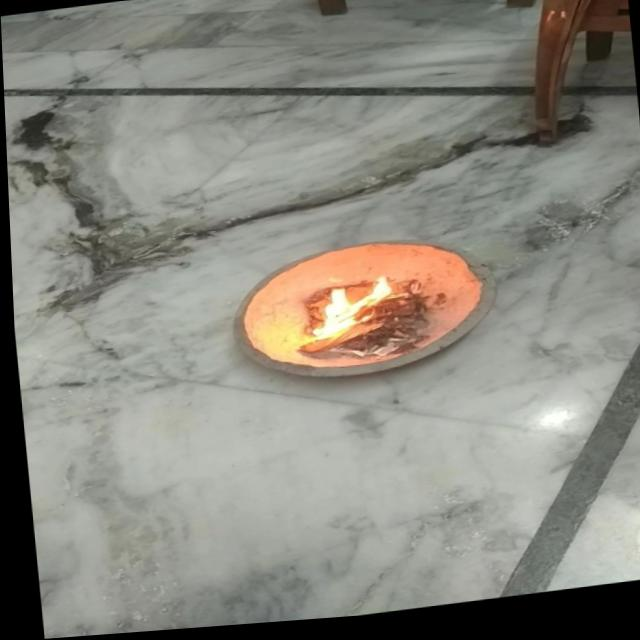fire: (299, 280, 402, 347)
